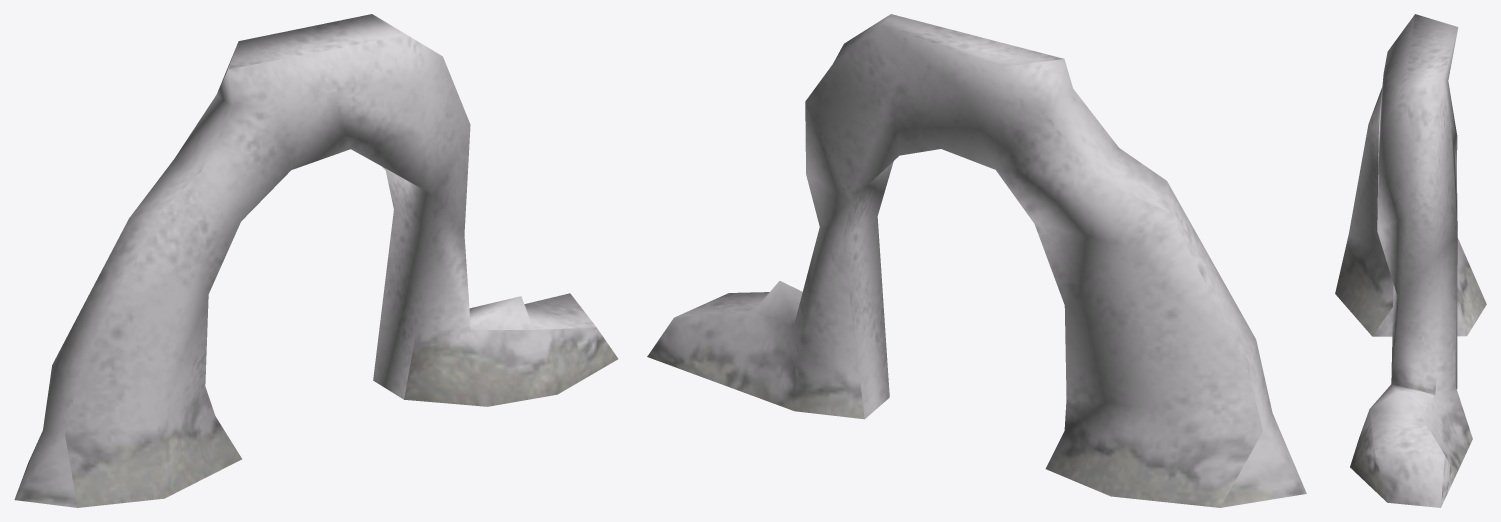
Rendered from general_obj_stone15.glb.
3 views of the same model, side by side, from view 1: azimuth 30°, elevation 25°; view 2: azimuth 150°, elevation 25°; view 3: azimuth 270°, elevation 25° (orthographic). The views are drawn at different scales.
Parts seen in each view (by area): view 1: Sphere01; view 2: Sphere01; view 3: Sphere01.
Boxes of the visible parts, x1=… form: Sphere01: x1=14, y1=14, x2=618, y2=507; Sphere01: x1=647, y1=14, x2=1306, y2=507; Sphere01: x1=1335, y1=14, x2=1486, y2=507.
Bounding box in the file's own units: 12.87 × 7.55 × 3.14.
Materials: 1 (1 with a texture image).
